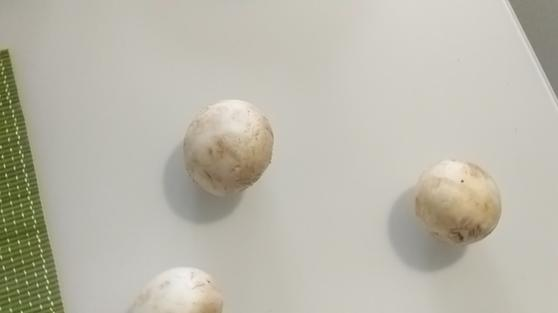champignon: (183, 97, 269, 192), (418, 155, 505, 243), (130, 268, 223, 313)
